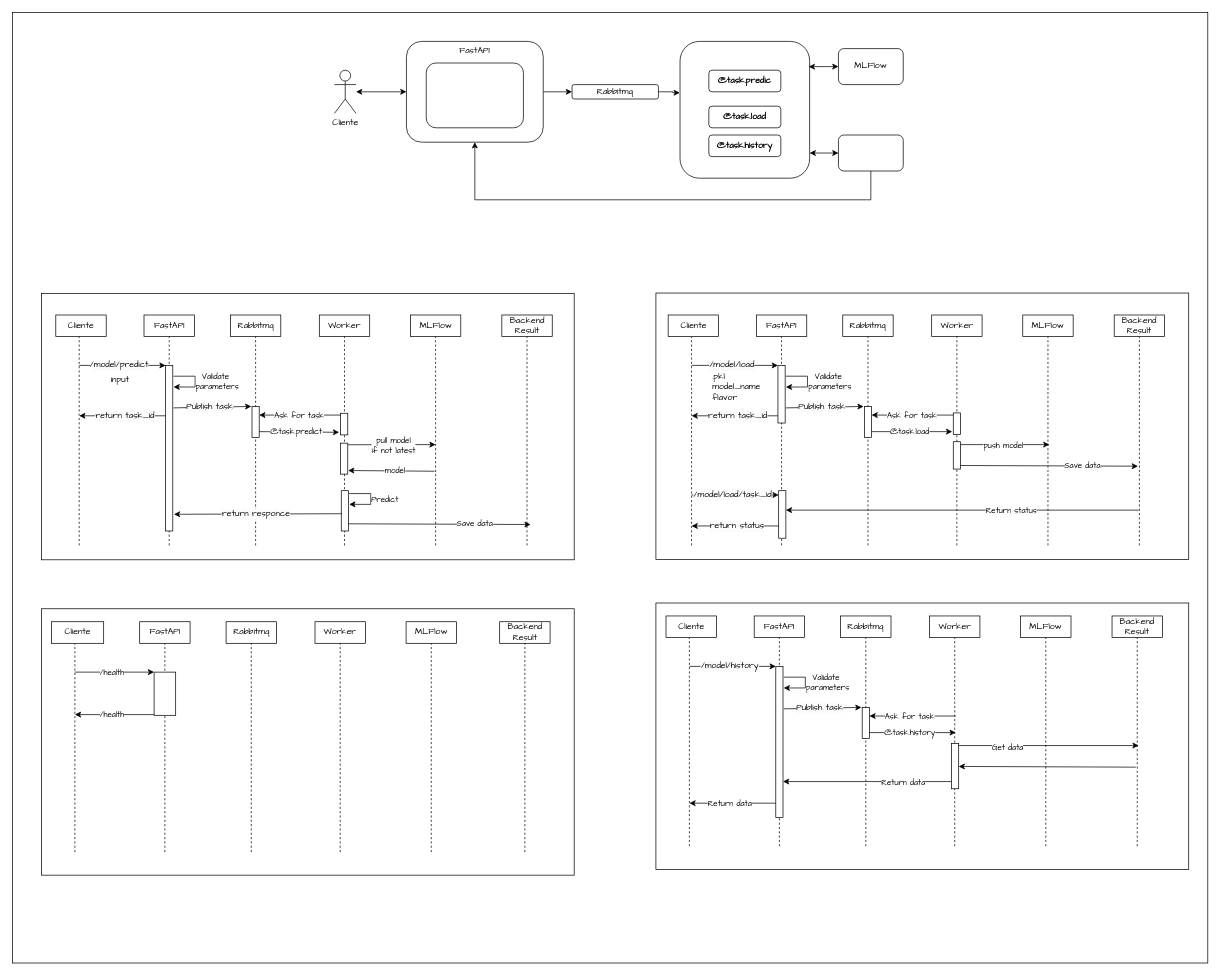
Some shapes in this 1220 by 976 pixel diagram are drawn without their labels. Here are the shapes that lost their labels. From the top down, the box of each, then its label:
(426, 62, 523, 128): Rotas /model/predict /model/load /model/history /health
(679, 41, 810, 178): Celery Worker
(838, 134, 903, 171): Postgress (backend)
